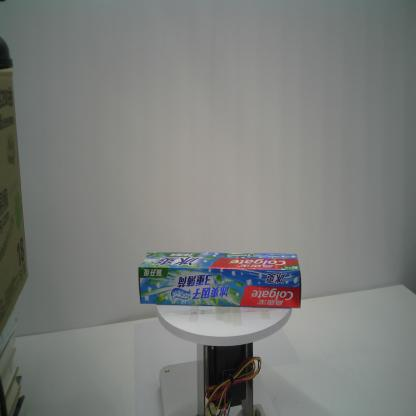Personal Hygiene: (137, 250, 302, 310)
